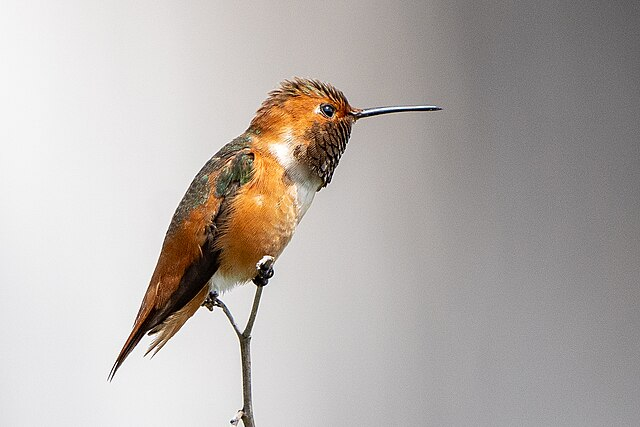selasphorus sasin: (112, 83, 440, 371)
